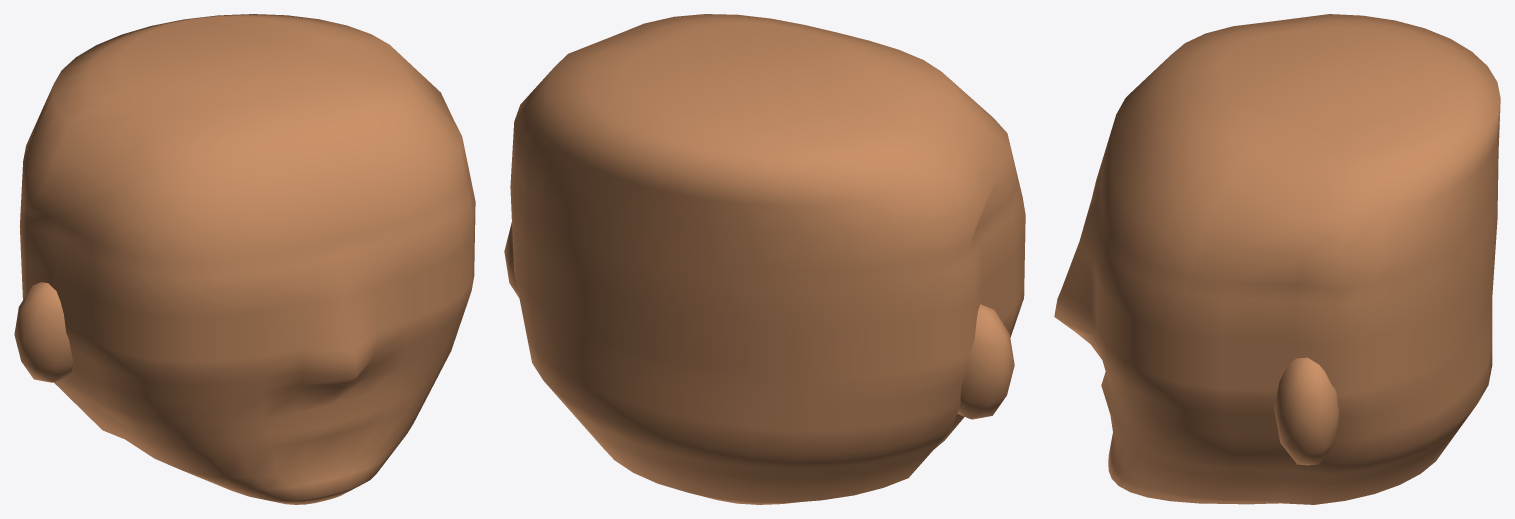
Rendered from head-spark.glb.
3 renders of one model, left to right at view 1: azimuth 30°, elevation 25°; view 2: azimuth 150°, elevation 25°; view 3: azimuth 270°, elevation 25°, orthographic. The views are drawn at different scales.
Parts seen in each view (by area): view 1: head-spark_head-spark__head_mesh; view 2: head-spark_head-spark__head_mesh; view 3: head-spark_head-spark__head_mesh.
Boxes of the visible parts, x1,y1,x2,y2 form: head-spark_head-spark__head_mesh: (14,14,475,504); head-spark_head-spark__head_mesh: (504,14,1025,504); head-spark_head-spark__head_mesh: (1054,14,1500,504).
Bounding box in the file's own units: 0.5519 × 0.441 × 0.4449.
